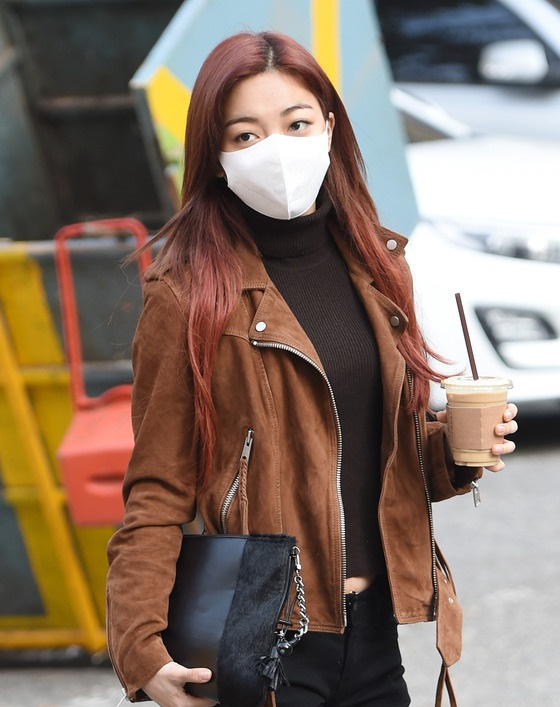face_mask: (223, 80, 327, 220)
